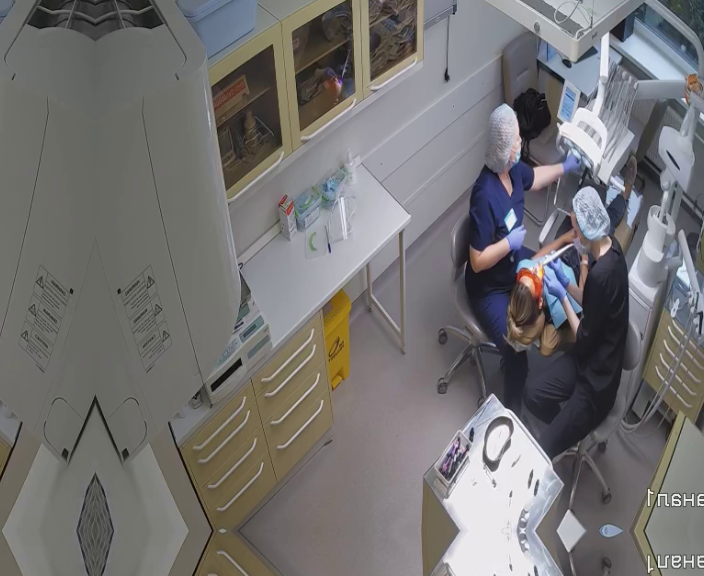Patient: (502, 150, 652, 356)
